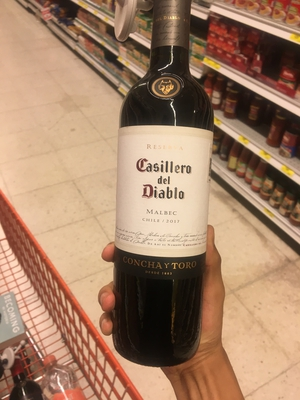casillero del diablo malbec: (112, 11, 220, 368)
